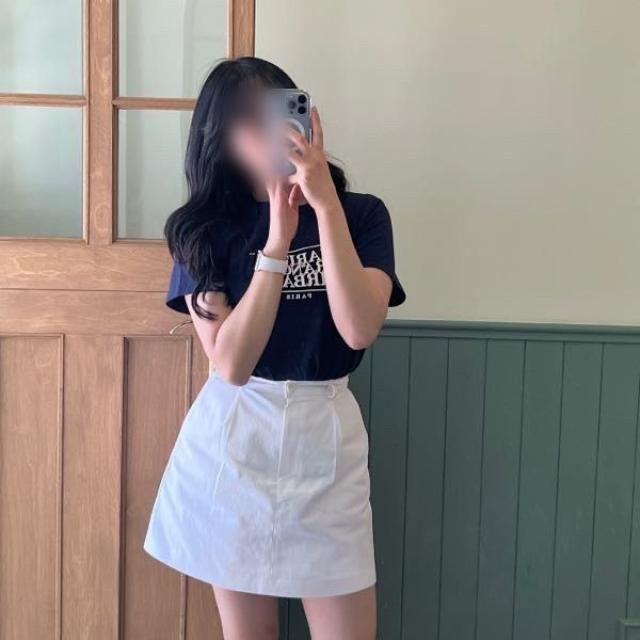shortsleeve: (166, 185, 404, 381)
skirt: (147, 365, 382, 596)
